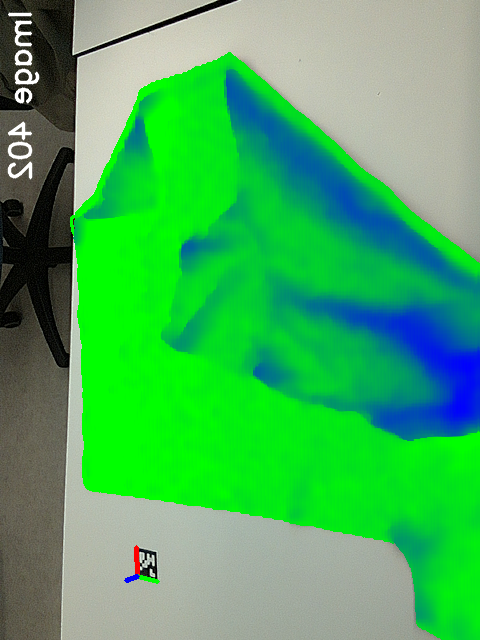V: (155, 307, 205, 361), (123, 176, 172, 222)
